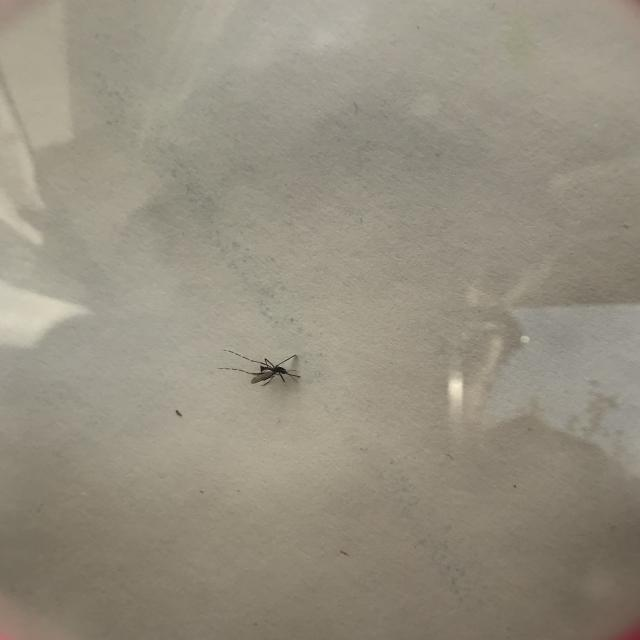albopictus: (220, 344, 304, 389)
